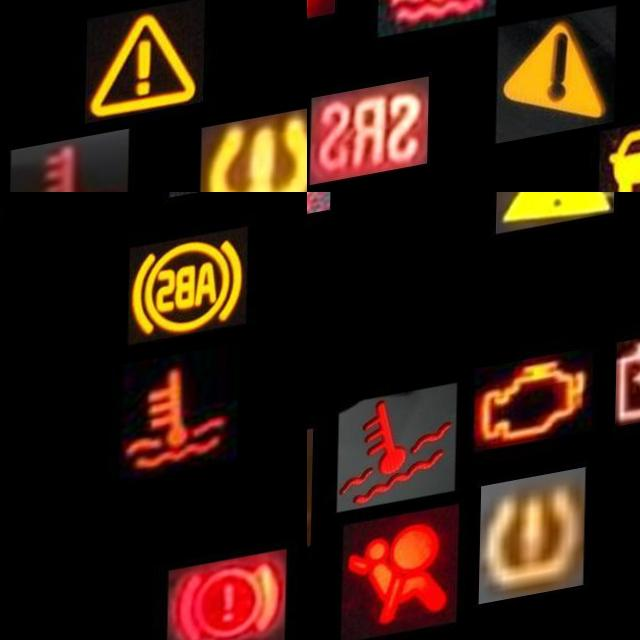Central Warning lamp: (498, 25, 618, 159), (86, 17, 206, 139), (496, 192, 616, 246)
Engine cooling system: (120, 359, 240, 494), (339, 393, 459, 519), (10, 144, 130, 192), (379, 0, 499, 47)
